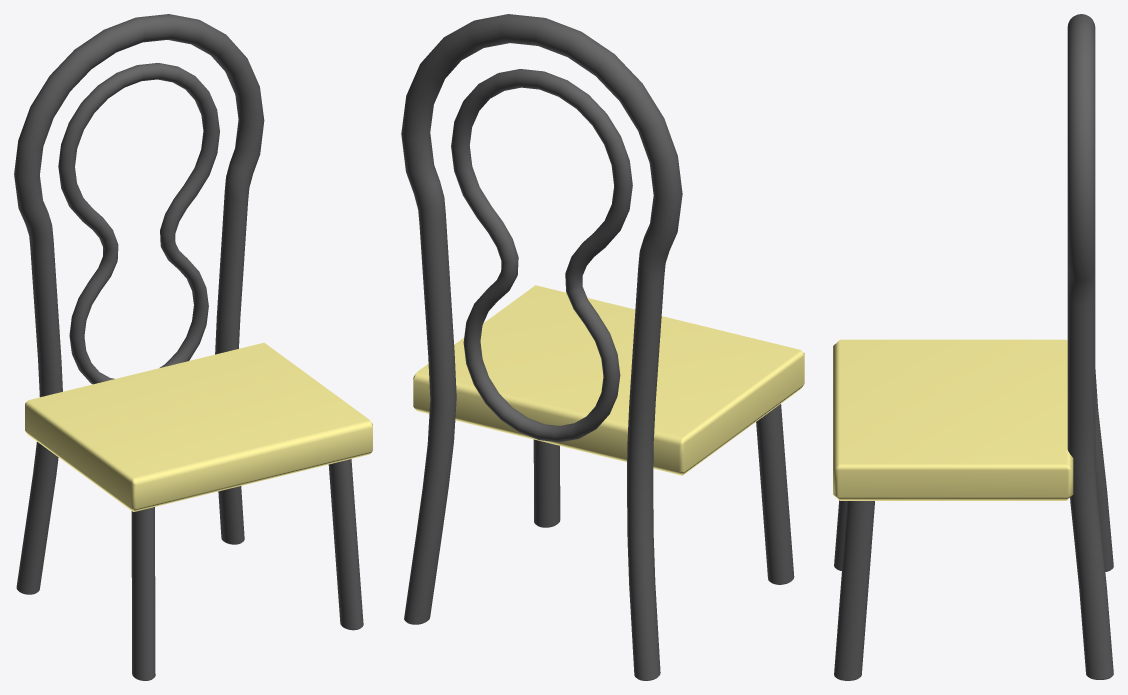
Rendered from City_9_Chair_1.glb.
3 renders of one model, left to right at view 1: azimuth 30°, elevation 25°; view 2: azimuth 150°, elevation 25°; view 3: azimuth 270°, elevation 25°, orthographic. The views are drawn at different scales.
Parts seen in each view (by area): view 1: City_9_Chair_1; view 2: City_9_Chair_1; view 3: City_9_Chair_1.
Part boxes in pixels (box(x1,y1,x2,y2)): City_9_Chair_1: box(14, 14, 372, 680); City_9_Chair_1: box(401, 14, 804, 680); City_9_Chair_1: box(833, 14, 1113, 680).
Bounding box in the file's own units: 0.6938 × 1.49 × 0.6359.
Materials: 1 (1 with a texture image).
